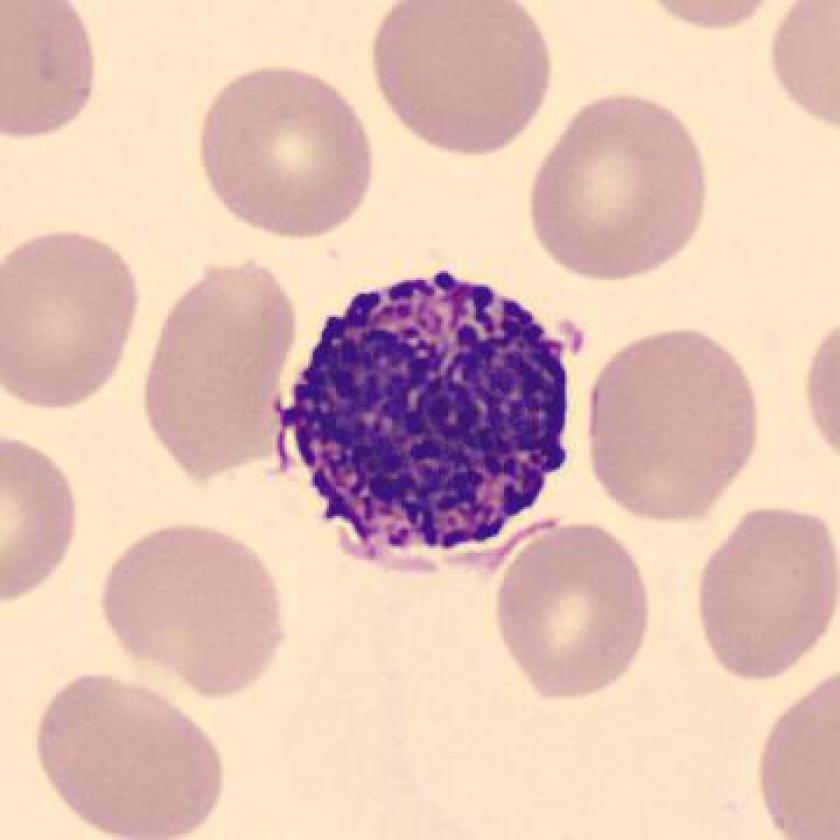basophil: (274, 265, 591, 577)
